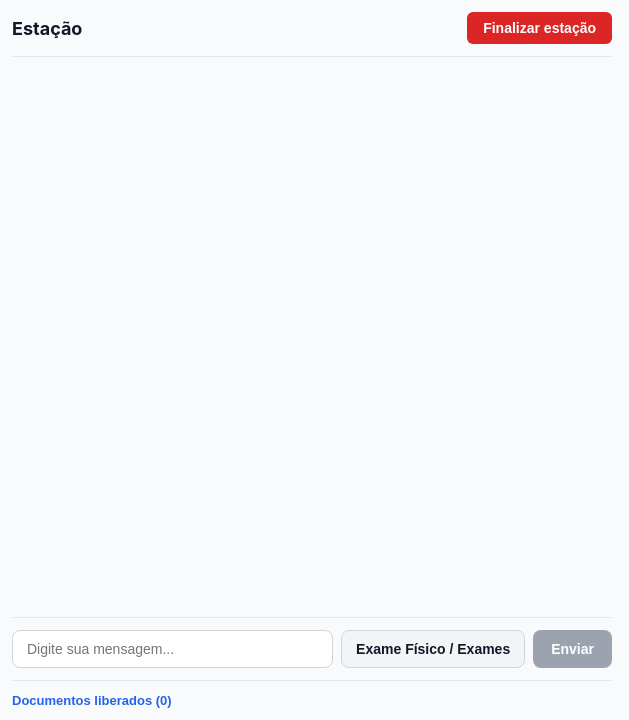
Test: StationScreen › sends a message and displays learner + patient messages
Type "Boa tarde" into the field with test id "message-input" at [173, 649], box [12,630,333,668]
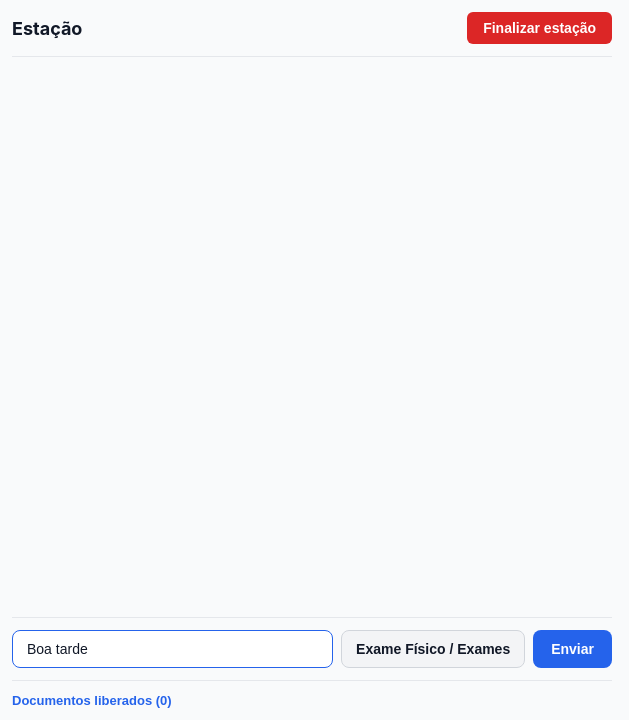
Click the button with test id "send-button" at [573, 649], box [533,630,612,668]
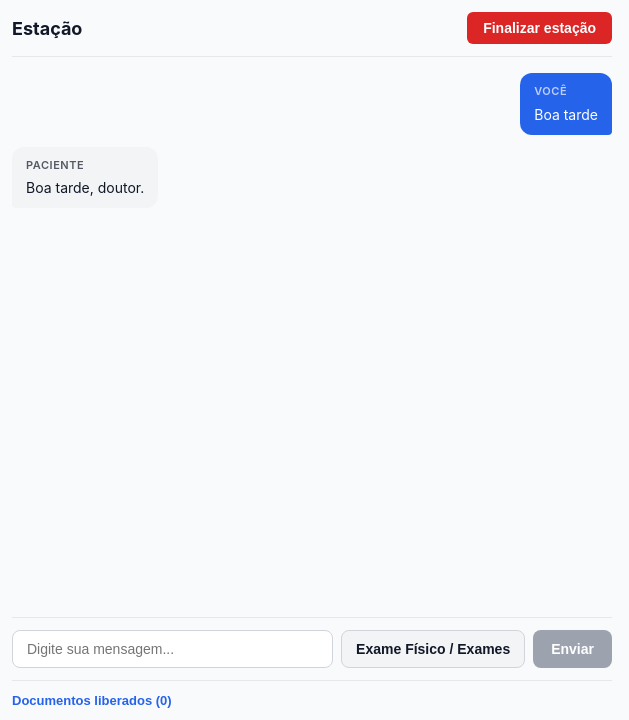
Check: the text "Boa tarde" is shown, box [534,106,598,122]
Check: the text "Você" is shown, box [534,84,567,98]
Check: the text "Boa tarde, doutor." is shown, box [26,179,144,196]
